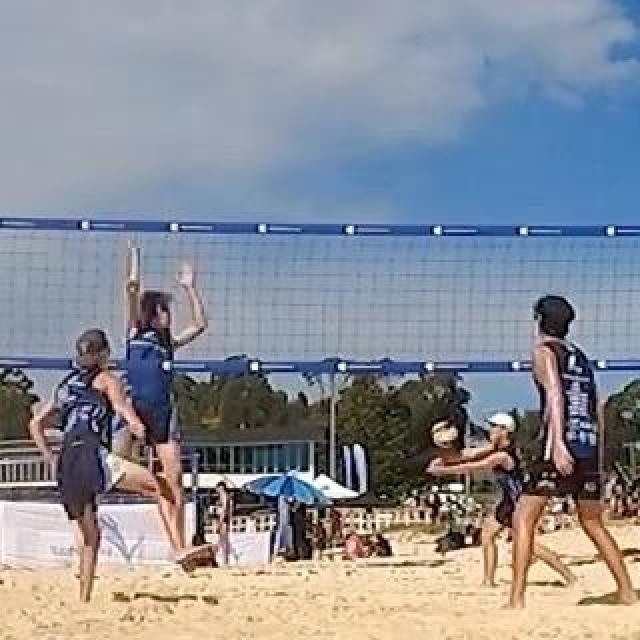volleyball: (431, 421, 457, 449)
